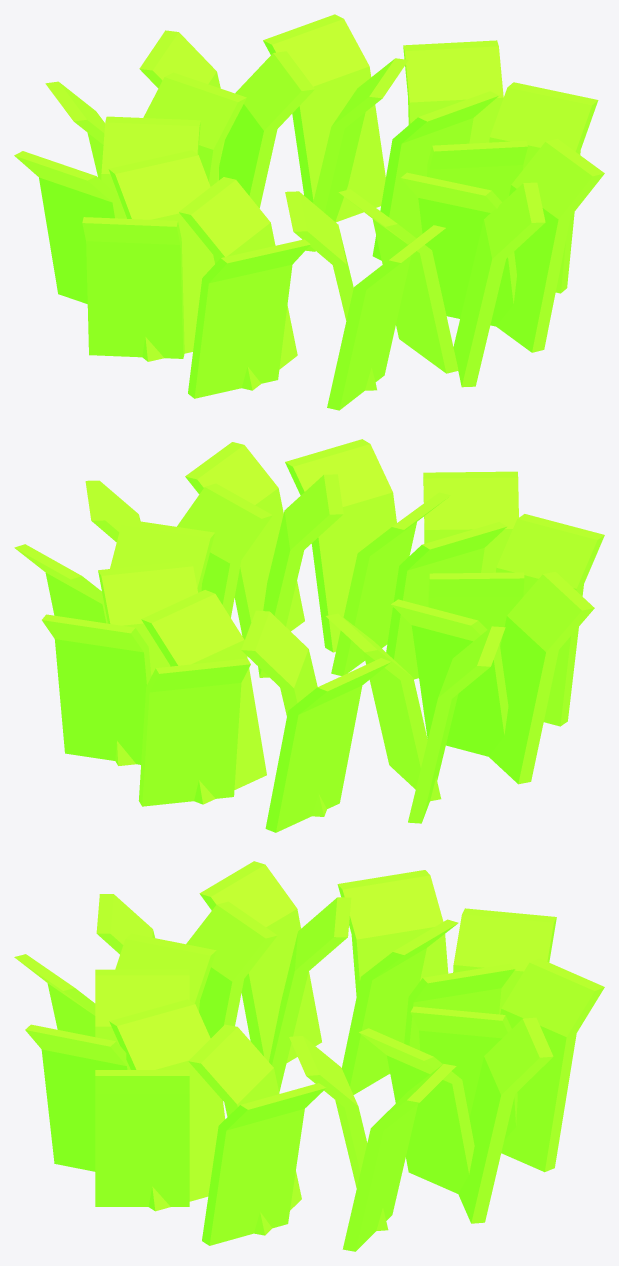
File: plant_5.gltf
3 views of the same model, one above another, from view 1: azimuth 30°, elevation 25°; view 2: azimuth 150°, elevation 25°; view 3: azimuth 270°, elevation 25° (orthographic).
Visible parts, largest first — view 1: Plant_5; view 2: Plant_5; view 3: Plant_5.
Part boxes in pixels (bbox=[...]): Plant_5: bbox=[14, 14, 604, 410]; Plant_5: bbox=[14, 439, 604, 832]; Plant_5: bbox=[14, 861, 604, 1251].
Size of the model in its own units: 108 by 32.64 by 109.
